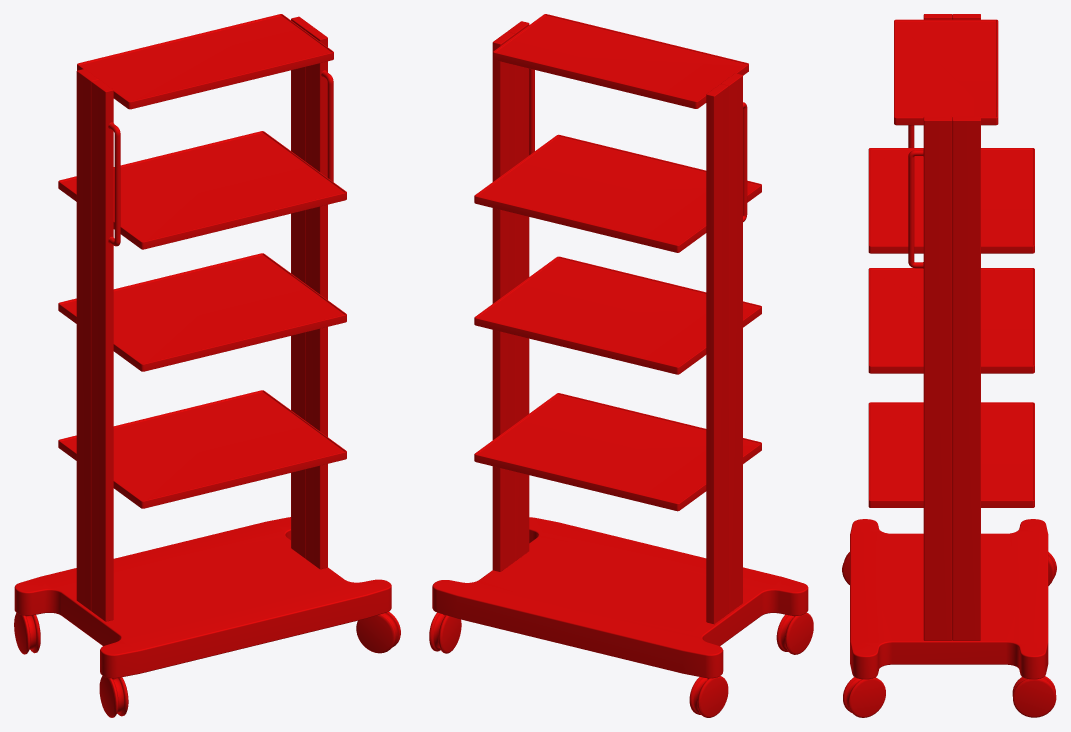
The model's file is Medical_shelf_2.fbx.
3 renders of one model, left to right at view 1: azimuth 30°, elevation 25°; view 2: azimuth 150°, elevation 25°; view 3: azimuth 270°, elevation 25°, orthographic.
Visible parts, largest first — view 1: L8:polySurface1360; view 2: L8:polySurface1360; view 3: L8:polySurface1360.
Part boxes in pixels (box(x1,y1,x2,y2)): L8:polySurface1360: box(14, 14, 400, 717); L8:polySurface1360: box(429, 14, 813, 717); L8:polySurface1360: box(842, 14, 1056, 717).
Bounding box in the file's own units: 86.85 × 170 × 56.57.
